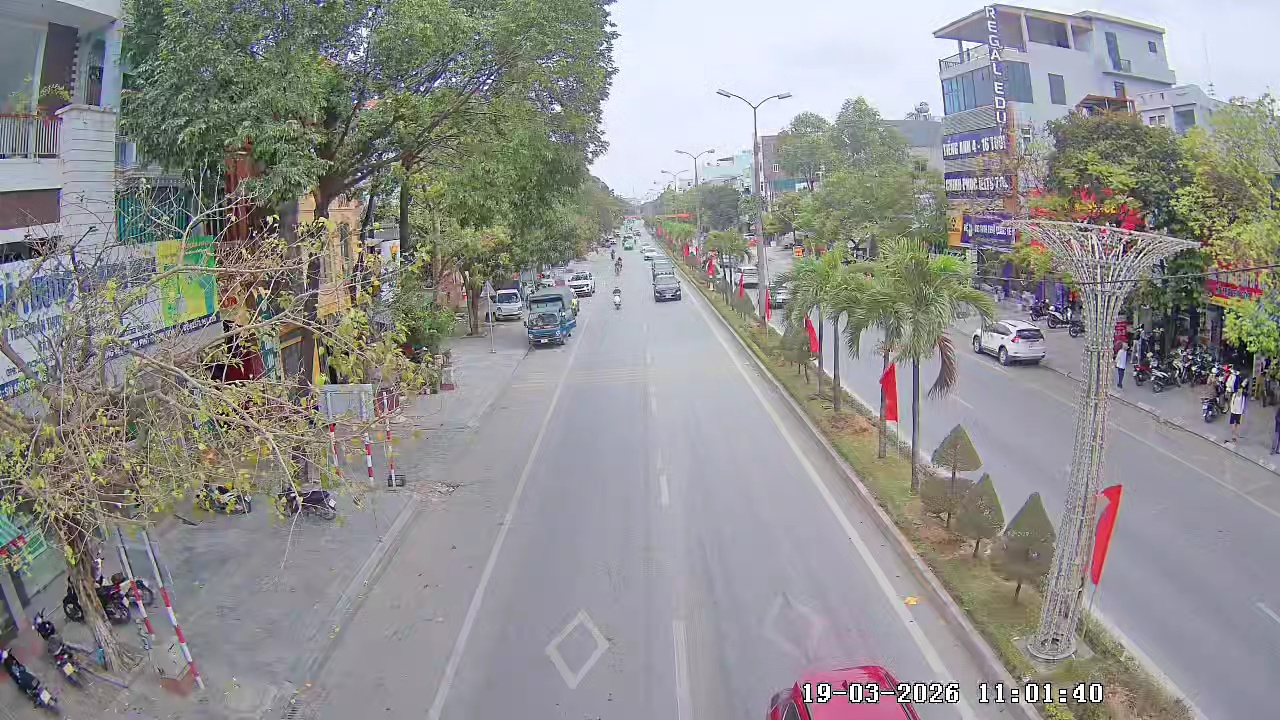car: (971, 321, 1048, 368), (651, 273, 683, 303), (566, 266, 595, 298)
motorbike: (610, 283, 624, 310)
pedestrian: (1227, 389, 1246, 431)
truck: (522, 287, 577, 348)
